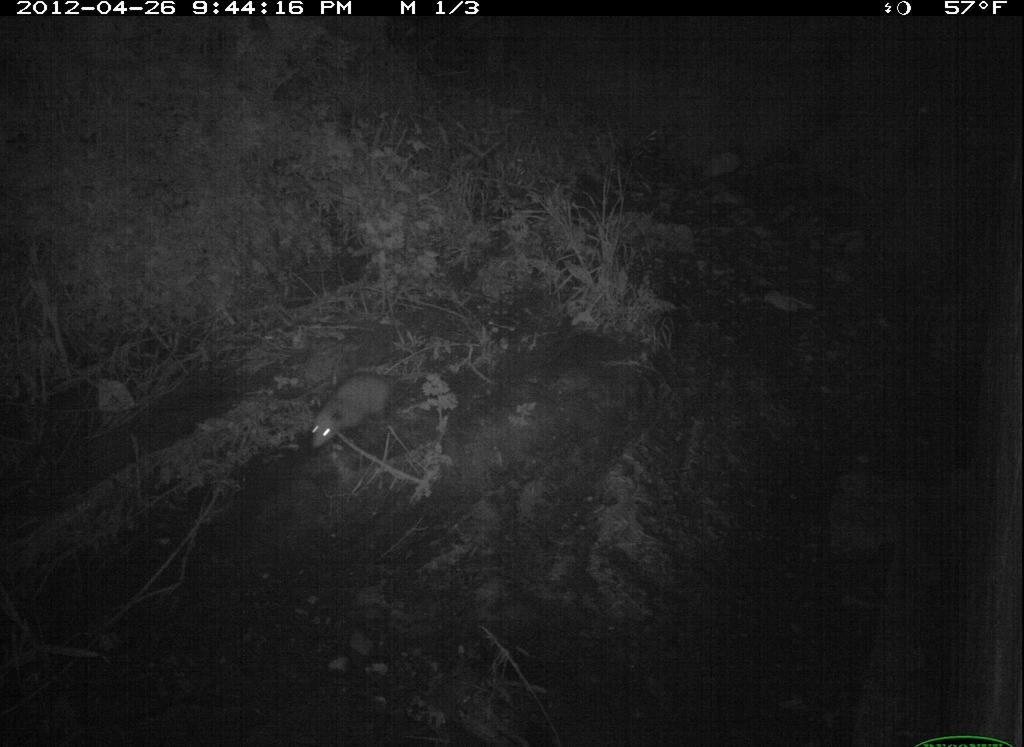opossum: (306, 349, 434, 456)
